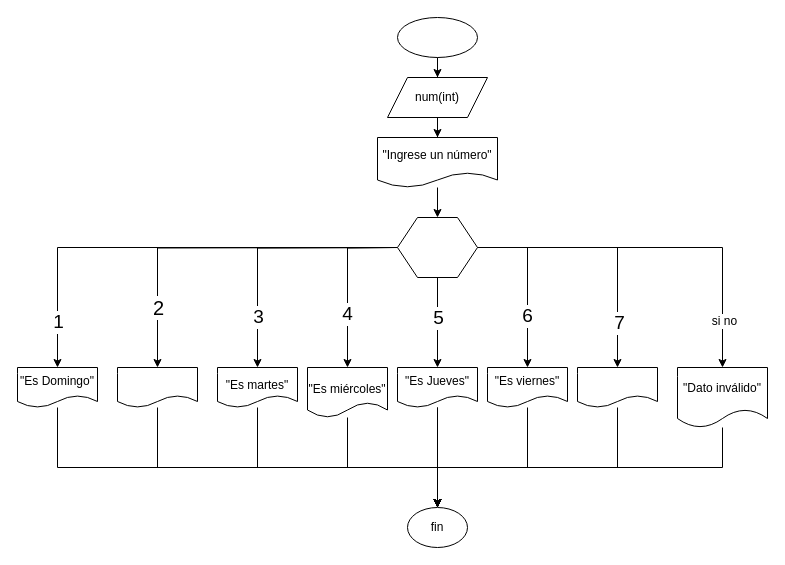
Image size: 785x565. Some labels were removed from this diagram. Here are the shapes that lost their labels. From the top down, the centre of each, then its label:
point 437,37: inicio
point 437,247: num
point 157,387: "Es Lunes"
point 617,387: "Es Sábado"
